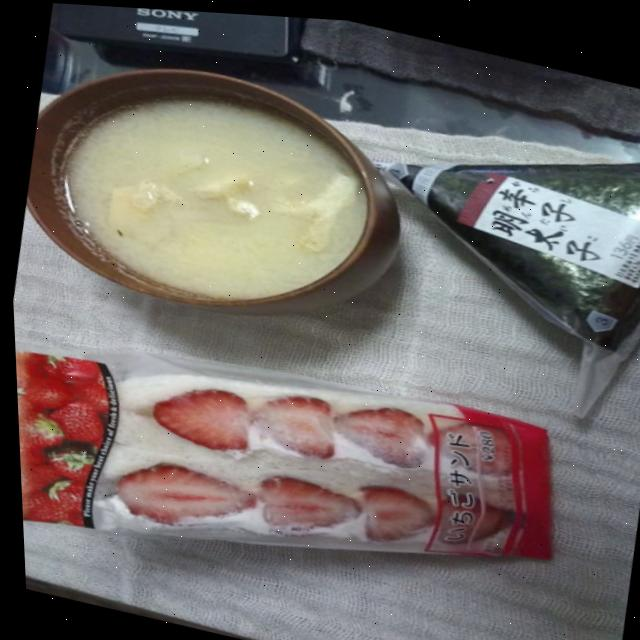米饭主食: (338, 89, 640, 412)
